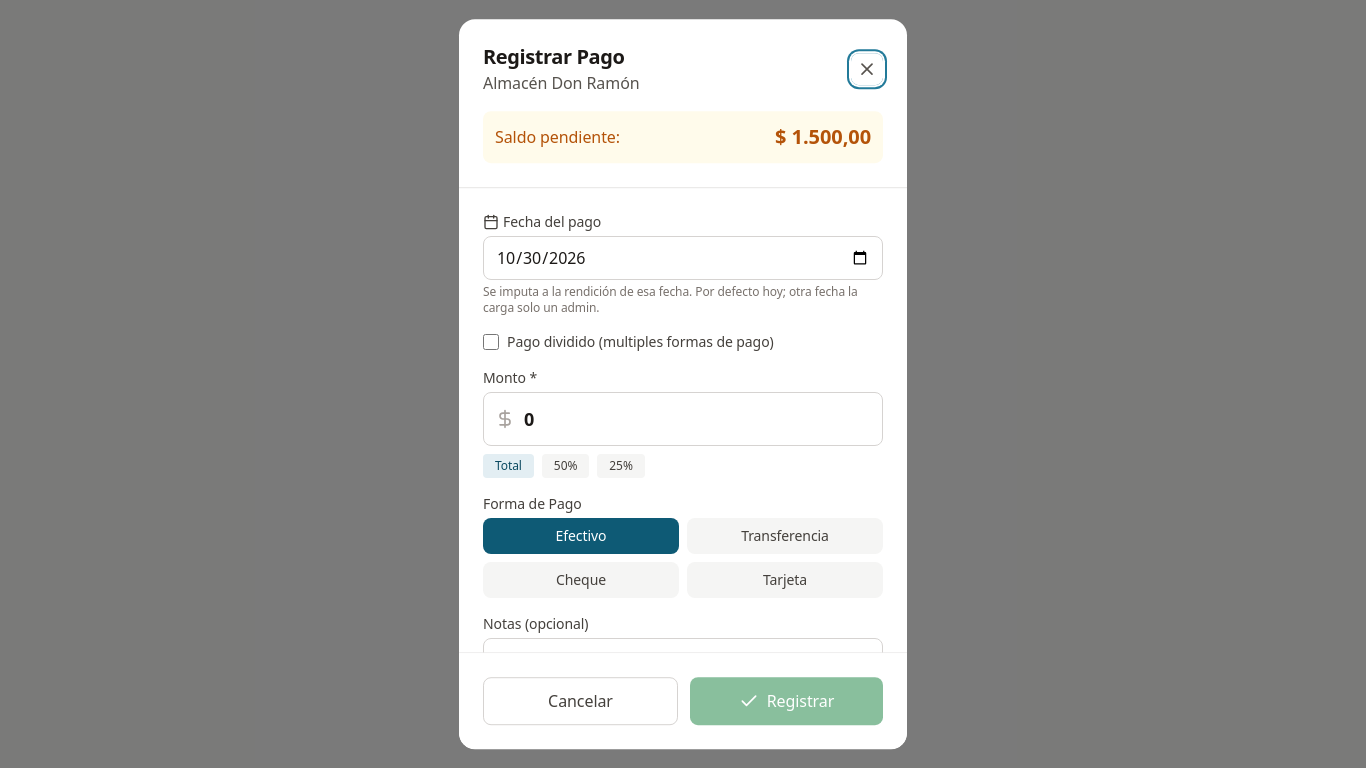
Scenario: ModalRegistrarPago · pantalla de éxito (pago simple) › registra con los datos del formulario y muestra «Pago Registrado»
Click the button "Total".
click(508, 466)  # box [483,454,534,478]
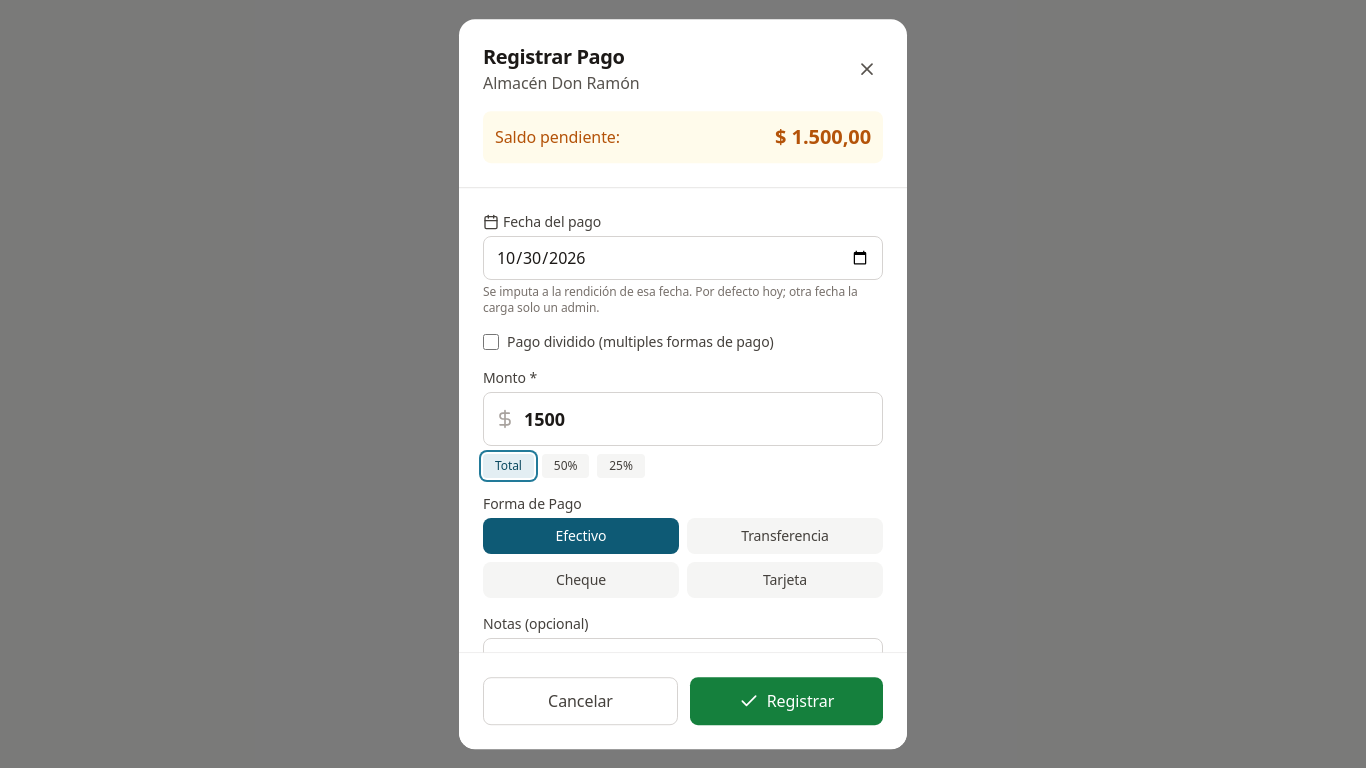
Click the button "Registrar".
click(786, 701)  # box [690,677,883,725]
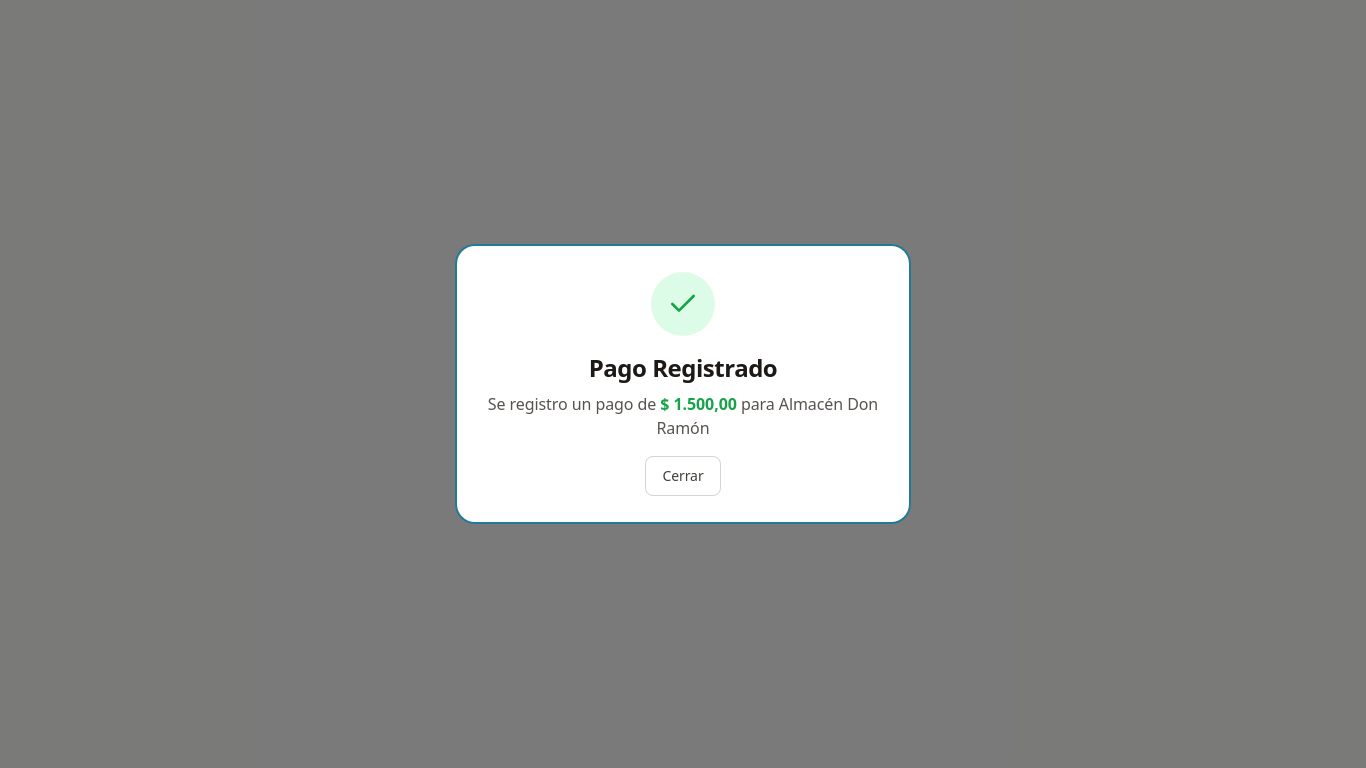
Check: the text "Se registro un pago de $ 1.500,00 para Almacén Don Ramón" is shown, box [483,392,883,440]
Check: the heading "Pago Registrado" is shown, box [589,351,777,384]
Check: the heading "Registrar Pago" is gone
